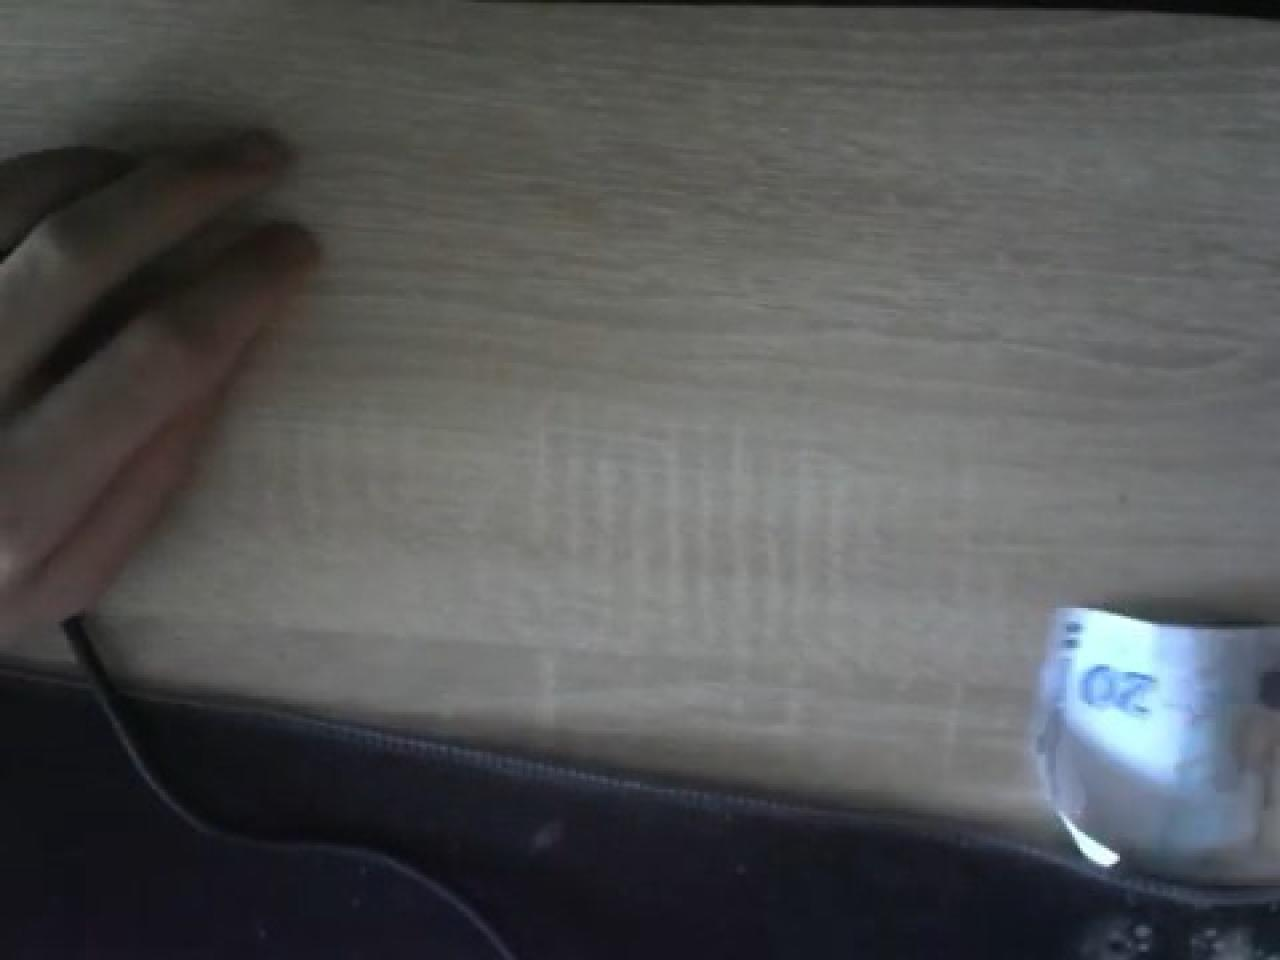20leva: (1027, 603, 1280, 904)
